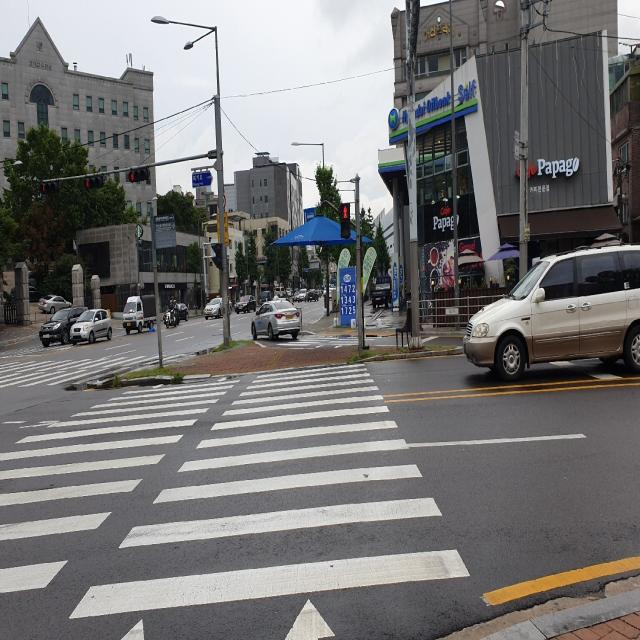car: (463, 245, 640, 381), (252, 296, 300, 342), (39, 306, 88, 348), (70, 308, 112, 346), (122, 294, 156, 334), (204, 296, 232, 320), (38, 295, 73, 314), (163, 303, 189, 325), (236, 295, 256, 314)
motorbike: (166, 307, 177, 329)
